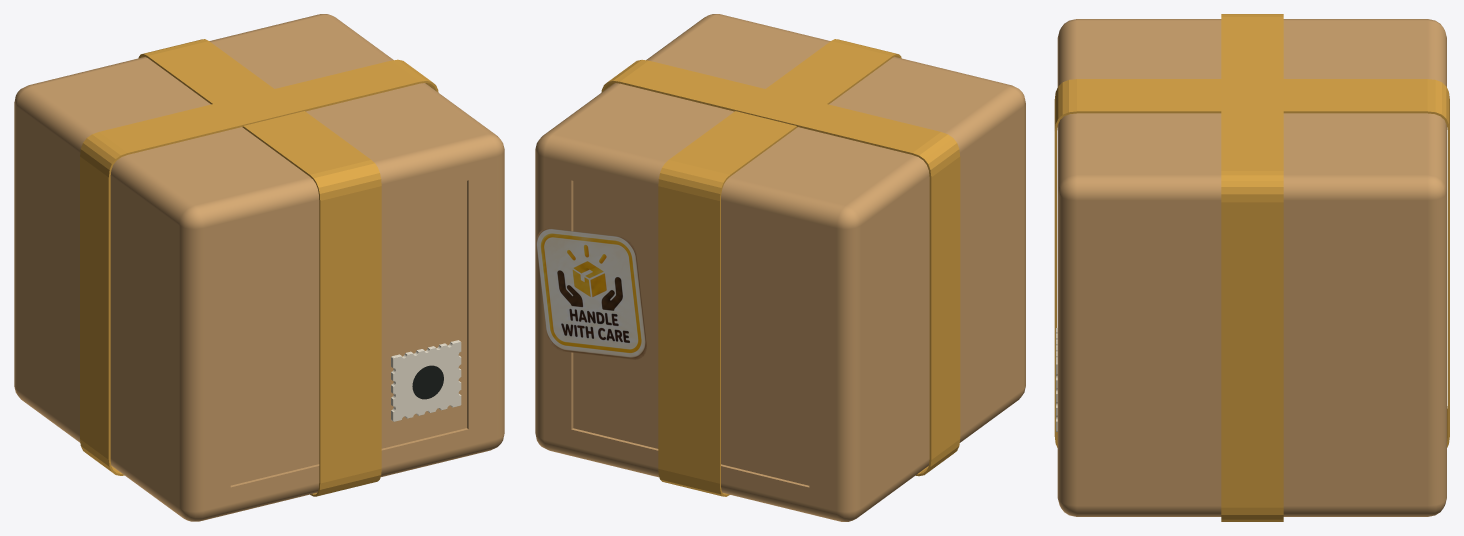
Rendered from play-parcel-small-yellow.glb.
The picture shows the model from 3 angles, left to right: view 1: azimuth 30°, elevation 25°; view 2: azimuth 150°, elevation 25°; view 3: azimuth 270°, elevation 25°; orthographic projection. The views are drawn at different scales.
Visible parts, largest first — view 1: Parcel_Carton, Parcel_Tape_Continuous_Front_Back, Parcel_Tape_Continuous_Left_Right, Parcel_Paper_Label, Parcel_Label_Circle; view 2: Parcel_Carton, Parcel_Tape_Continuous_Front_Back, Parcel_Tape_Continuous_Left_Right, Parcel_Care_H3_Artwork; view 3: Parcel_Carton, Parcel_Tape_Continuous_Left_Right, Parcel_Tape_Continuous_Front_Back.
Part boxes in pixels (x1=…): Parcel_Carton: x1=14, y1=14, x2=504, y2=521; Parcel_Tape_Continuous_Front_Back: x1=138, y1=39, x2=381, y2=496; Parcel_Tape_Continuous_Left_Right: x1=80, y1=59, x2=438, y2=475; Parcel_Paper_Label: x1=391, y1=340, x2=461, y2=421; Parcel_Label_Circle: x1=412, y1=365, x2=443, y2=399; Parcel_Carton: x1=535, y1=14, x2=1025, y2=521; Parcel_Tape_Continuous_Front_Back: x1=658, y1=39, x2=901, y2=496; Parcel_Tape_Continuous_Left_Right: x1=601, y1=59, x2=960, y2=476; Parcel_Care_H3_Artwork: x1=536, y1=228, x2=646, y2=359; Parcel_Carton: x1=1057, y1=19, x2=1446, y2=516; Parcel_Tape_Continuous_Left_Right: x1=1221, y1=14, x2=1283, y2=521; Parcel_Tape_Continuous_Front_Back: x1=1054, y1=79, x2=1449, y2=447.
Bounding box in the file's own units: 0.148 × 0.138 × 0.1423.
12 materials, 1 textured.
